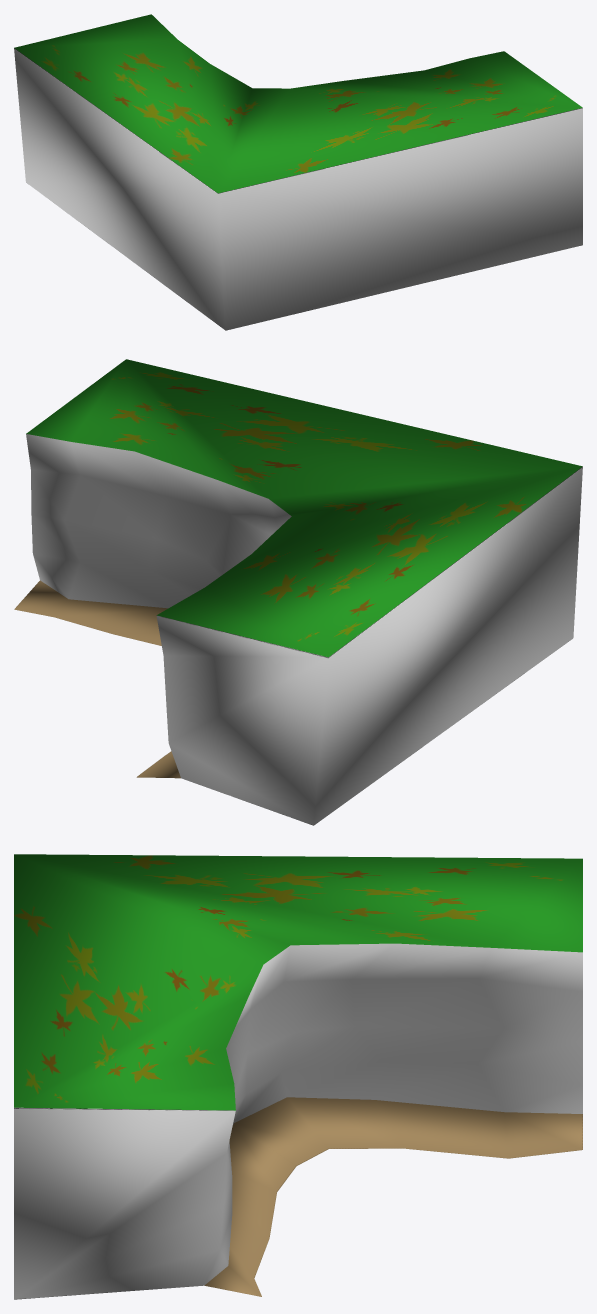
The model's file is terrain_curve.fbx.
The picture shows the model from 3 angles, top to bottom: view 1: azimuth 30°, elevation 25°; view 2: azimuth 150°, elevation 25°; view 3: azimuth 270°, elevation 25°; orthographic projection. The views are drawn at different scales.
Visible parts, largest first — view 1: Cube.001; view 2: Cube.001; view 3: Cube.001.
Boxes of the visible parts, left/top/right/bottom form: Cube.001: left=14, top=14, right=582, bottom=330; Cube.001: left=14, top=359, right=582, bottom=825; Cube.001: left=14, top=854, right=582, bottom=1299.
Size of the model in its own units: 1673 by 615 by 1611.
